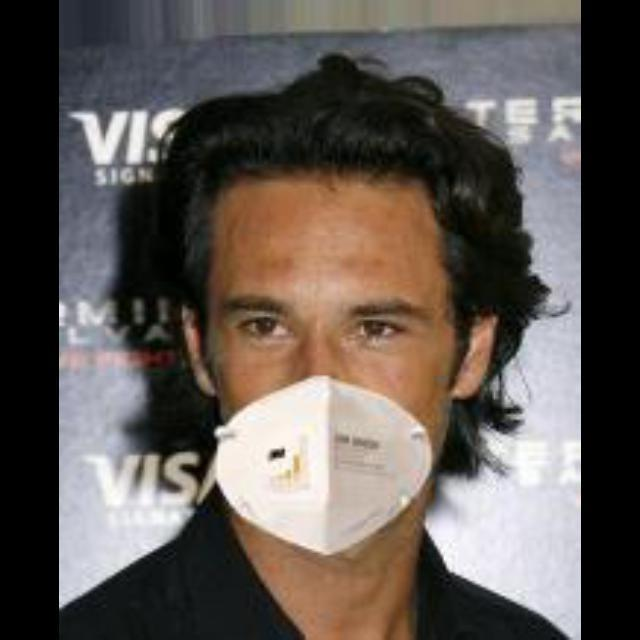suspicion: (160, 117, 492, 569)
